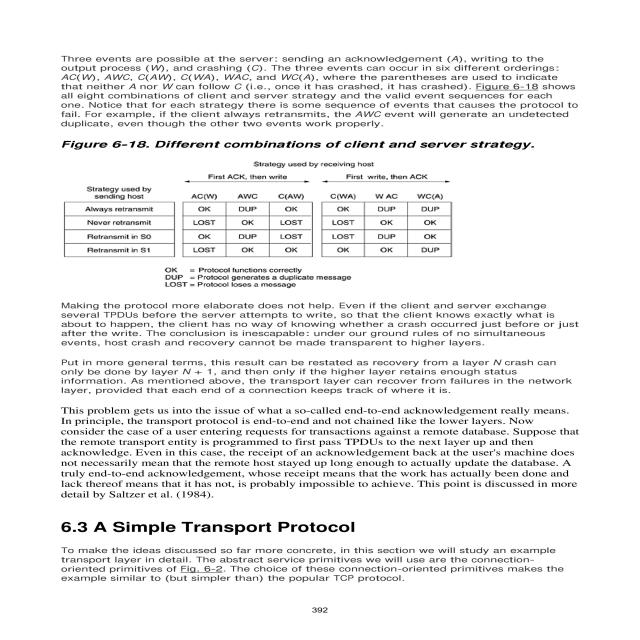diagram: (35, 135, 585, 295)
